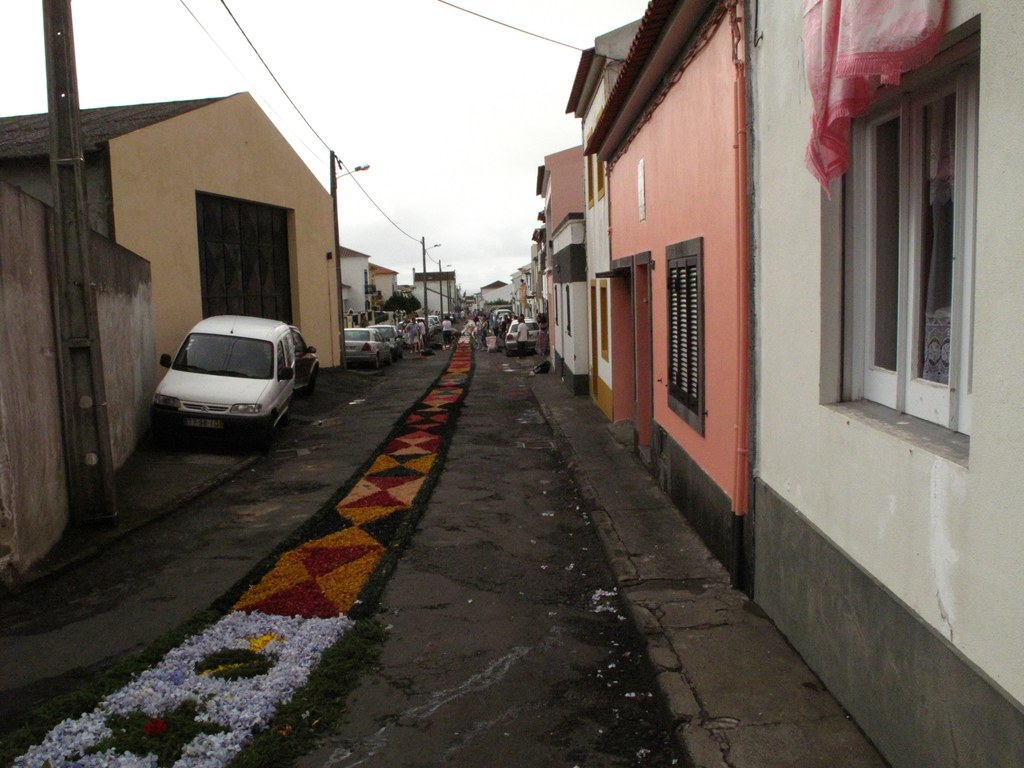Car: (149, 305, 304, 449), (341, 324, 393, 368), (507, 309, 547, 357)
